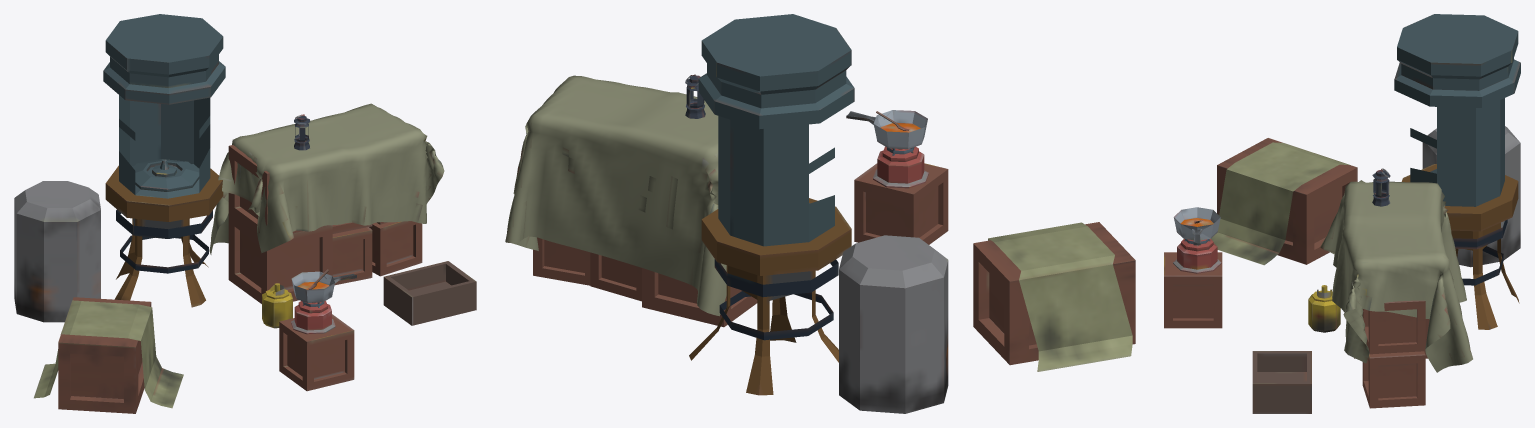
Rendered from new supply stop.fbx.
3 renders of one model, left to right at view 1: azimuth 30°, elevation 25°; view 2: azimuth 150°, elevation 25°; view 3: azimuth 270°, elevation 25°, orthographic. The views are drawn at different scales.
Visible parts, largest first — view 1: Plane.199; view 2: Plane.199; view 3: Plane.199.
Part boxes in pixels (x1,y1,x2,y2): Plane.199: [14, 14, 476, 413]; Plane.199: [505, 14, 1135, 413]; Plane.199: [1164, 14, 1520, 413].
Bounding box in the file's own units: 249 × 140 × 168.
